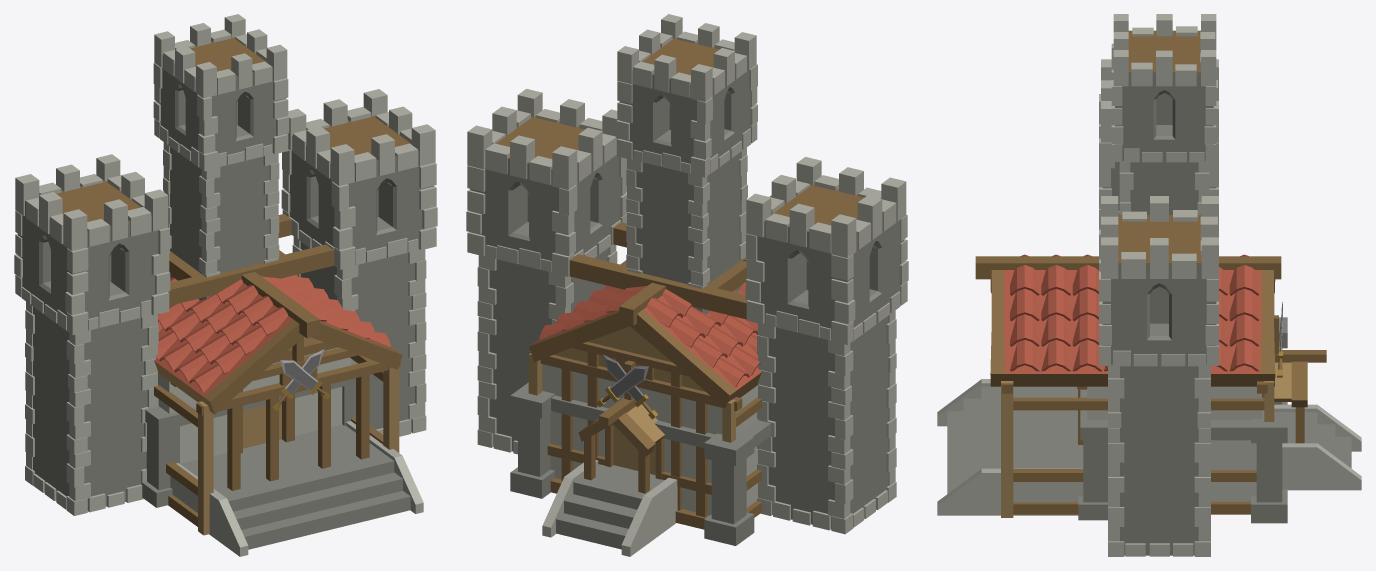
Rendered from Barracks_SecondAge_Level3-transformed.glb.
3 views of the same model, side by side, from view 1: azimuth 30°, elevation 25°; view 2: azimuth 150°, elevation 25°; view 3: azimuth 270°, elevation 25° (orthographic). The views are drawn at different scales.
Parts seen in each view (by area): view 1: Barracks_SecondAge_Level3; view 2: Barracks_SecondAge_Level3; view 3: Barracks_SecondAge_Level3.
Part boxes in pixels (x1=…): Barracks_SecondAge_Level3: x1=14, y1=14, x2=437, y2=556; Barracks_SecondAge_Level3: x1=466, y1=14, x2=908, y2=556; Barracks_SecondAge_Level3: x1=937, y1=14, x2=1361, y2=556.
Bounding box in the file's own units: 1.71 × 1.85 × 1.64.
